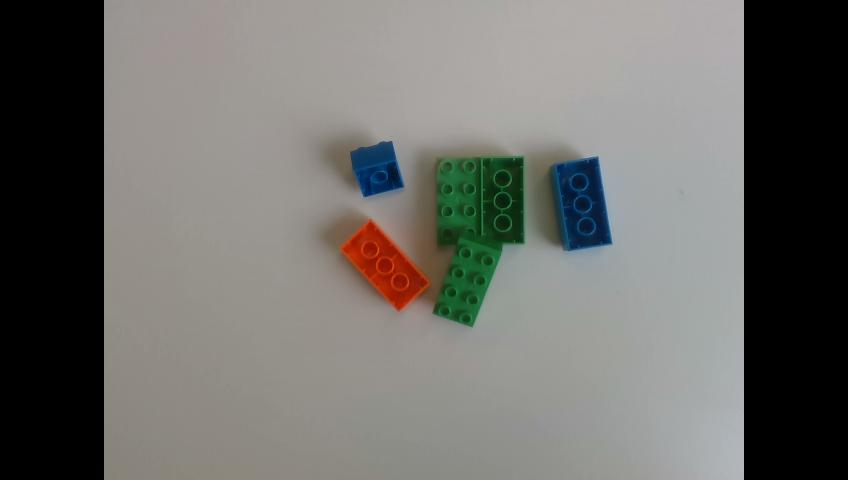2x2_blue: (348, 140, 407, 198)
4x2_blue: (545, 158, 615, 252)
4x2_green: (434, 229, 504, 328), (479, 156, 527, 245), (438, 155, 481, 245)
4x2_orange: (340, 219, 433, 312)
